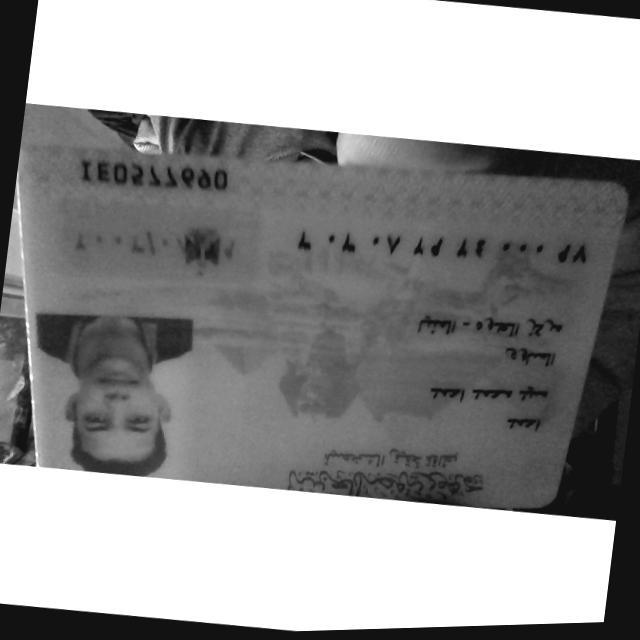front: (16, 145, 626, 507)
